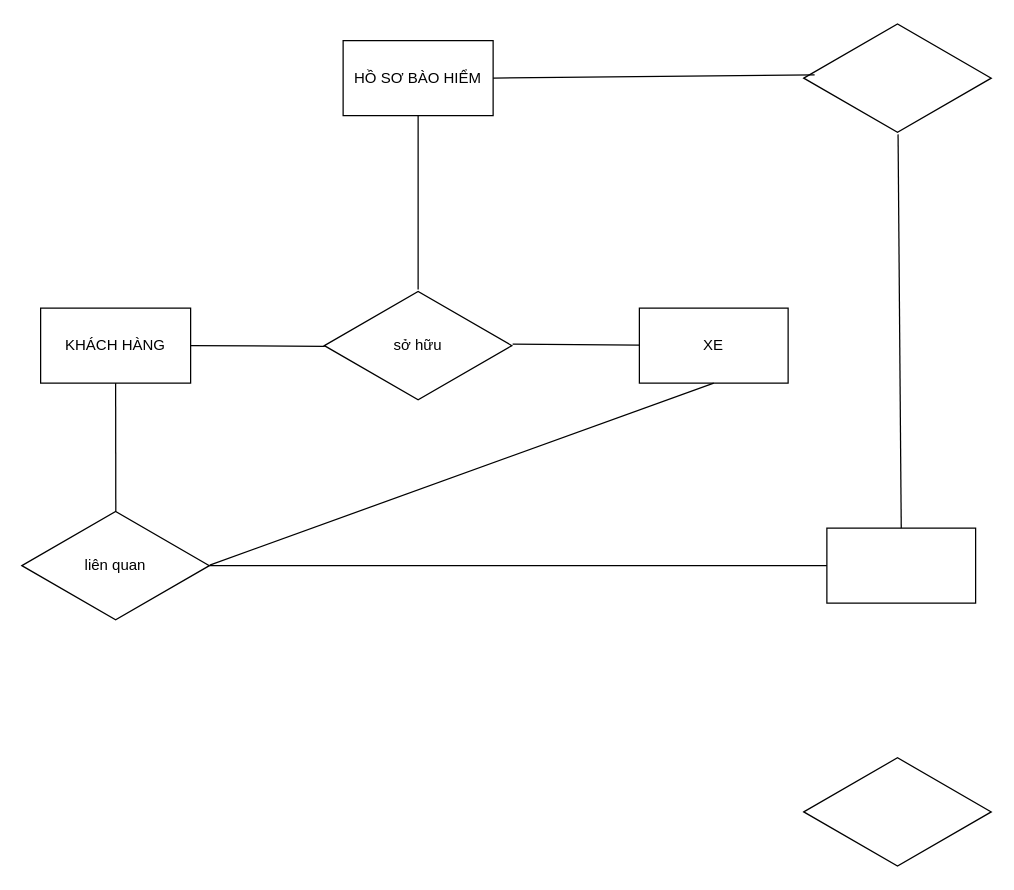
The diagram is 1014 pixels wide and 890 high, and some of its shapes have lost their labels. Each missing label, with the centre of its shape:
"kiểm tra" belongs at [896,77].
"TAI NẠN" belongs at [901,565].
